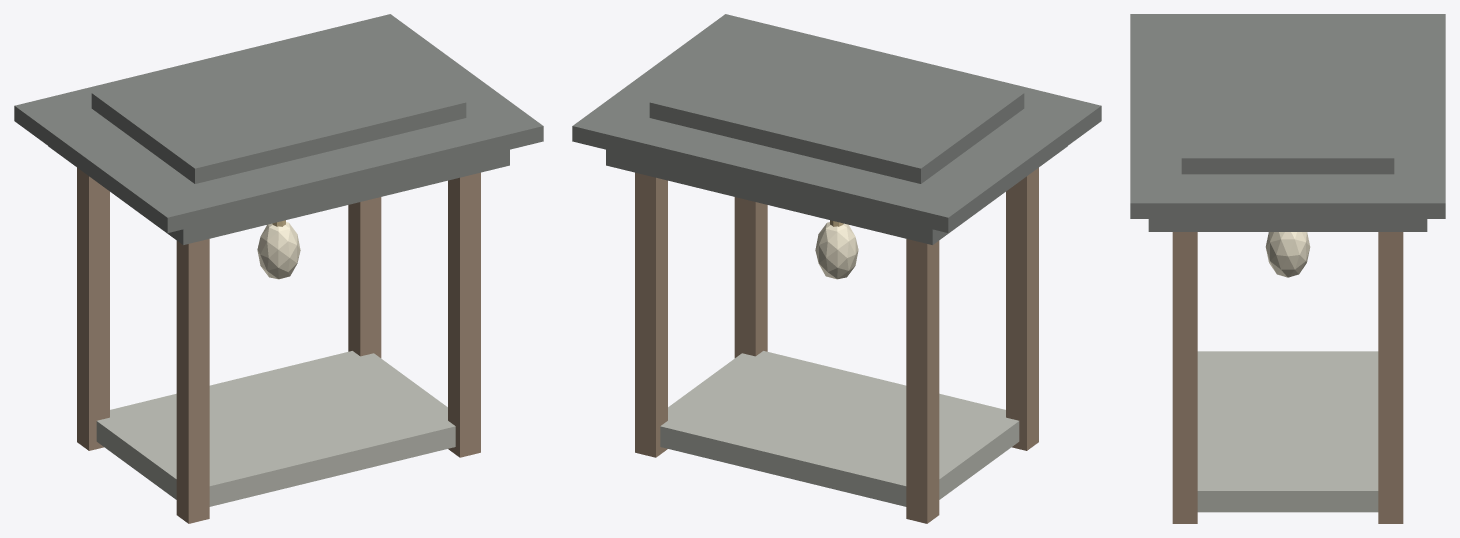
Rendered from quiet_pavilion.glb.
3 views of the same model, side by side, from view 1: azimuth 30°, elevation 25°; view 2: azimuth 150°, elevation 25°; view 3: azimuth 270°, elevation 25° (orthographic). The views are drawn at different scales.
Visible parts, largest first — view 1: roofcap, rooflip, platform, p3, p4, p1, roofbase, p2, lantern; view 2: roofcap, rooflip, platform, p1, p2, p3, roofbase, p4, lantern; view 3: roofcap, rooflip, platform, p2, p4, roofbase, lantern.
Part boxes in pixels (x1=…): roofcap: x1=91, y1=27, x2=466, y2=183; rooflip: x1=14, y1=14, x2=543, y2=233; platform: x1=96, y1=351, x2=455, y2=506; p3: x1=176, y1=239, x2=209, y2=523; p4: x1=448, y1=172, x2=480, y2=457; p1: x1=77, y1=167, x2=109, y2=450; roofbase: x1=48, y1=146, x2=509, y2=244; p2: x1=348, y1=197, x2=381, y2=357; lantern: x1=257, y1=222, x2=300, y2=279; roofcap: x1=649, y1=27, x2=1024, y2=183; rooflip: x1=572, y1=14, x2=1101, y2=233; platform: x1=660, y1=351, x2=1019, y2=506; p1: x1=906, y1=239, x2=939, y2=523; p2: x1=635, y1=172, x2=667, y2=457; p3: x1=1006, y1=167, x2=1038, y2=450; roofbase: x1=606, y1=146, x2=1067, y2=244; p4: x1=734, y1=197, x2=767, y2=357; lantern: x1=815, y1=222, x2=858, y2=279; roofcap: x1=1181, y1=21, x2=1394, y2=174; rooflip: x1=1130, y1=14, x2=1445, y2=218; platform: x1=1197, y1=351, x2=1378, y2=512; p2: x1=1378, y1=232, x2=1403, y2=523; p4: x1=1172, y1=232, x2=1197, y2=523; roofbase: x1=1148, y1=219, x2=1427, y2=231; lantern: x1=1265, y1=232, x2=1310, y2=277.
Bounding box in the file's own units: 3.05 × 2.71 × 2.15.
